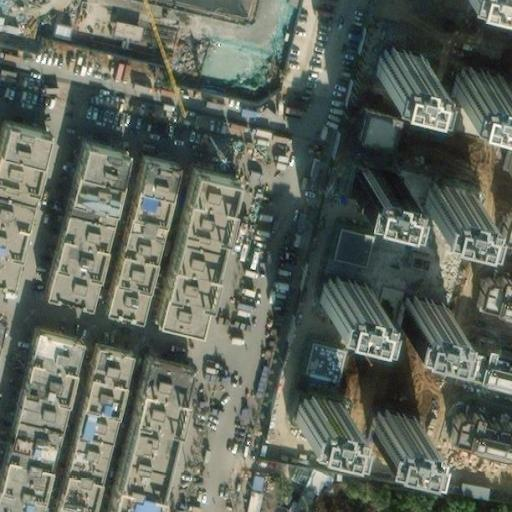building: (444, 414, 512, 464), (21, 323, 79, 375), (66, 136, 124, 186), (50, 205, 107, 252), (48, 460, 99, 512), (255, 450, 326, 487), (78, 337, 129, 387), (280, 378, 336, 422), (440, 55, 497, 98), (123, 149, 173, 198), (460, 344, 512, 391), (309, 261, 365, 304), (363, 33, 419, 76), (385, 280, 441, 323), (337, 149, 393, 192), (356, 398, 412, 441), (412, 168, 468, 211), (59, 174, 114, 217), (14, 363, 70, 404), (2, 417, 57, 458), (38, 265, 93, 306), (107, 219, 156, 264), (142, 352, 185, 401), (329, 223, 375, 268), (186, 164, 229, 212), (44, 240, 99, 277), (116, 188, 164, 230), (357, 105, 402, 149), (9, 392, 63, 428), (59, 430, 107, 470), (71, 377, 119, 416), (133, 393, 175, 437), (95, 279, 142, 317), (171, 235, 212, 278), (117, 463, 159, 504), (101, 254, 148, 289), (179, 204, 220, 244), (125, 430, 166, 470), (476, 279, 512, 323), (66, 406, 112, 440), (158, 295, 198, 331), (165, 270, 204, 303), (244, 472, 268, 512), (108, 17, 143, 42), (457, 479, 494, 502), (113, 496, 151, 512), (501, 136, 512, 160)
